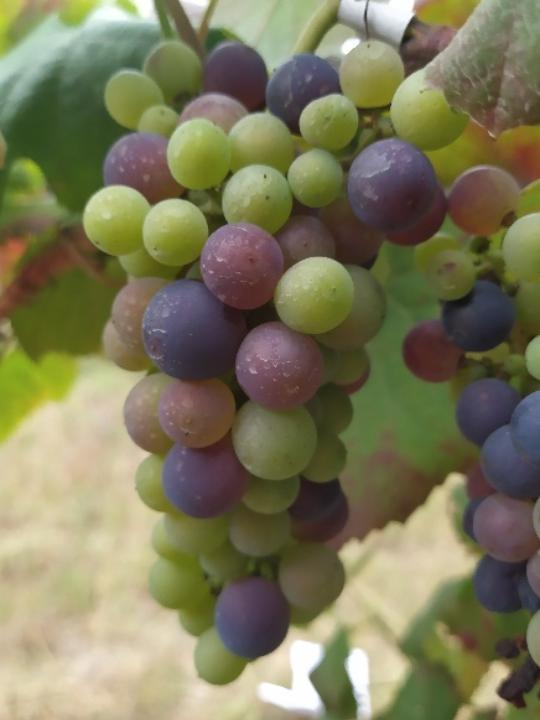grape: (79, 37, 473, 688)
